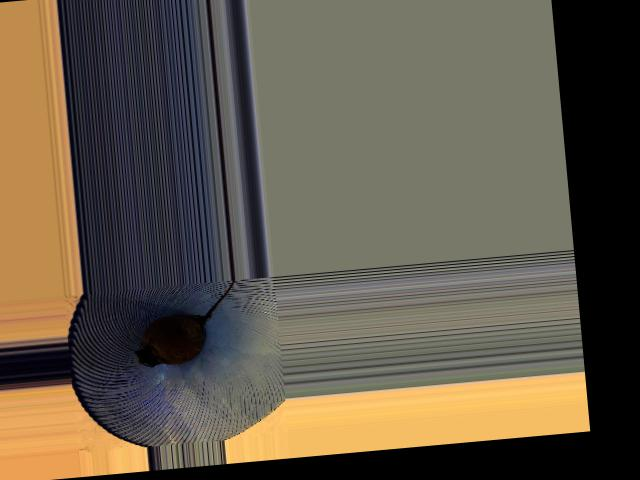beet: (128, 279, 241, 367)
